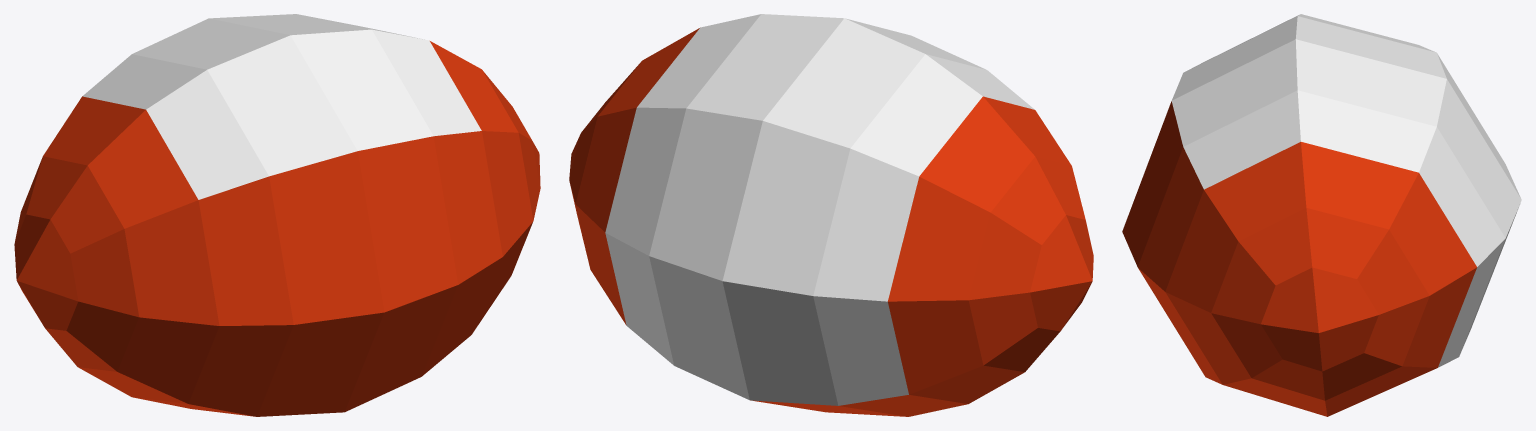
File: ball.fbx
3 views of the same model, side by side, from view 1: azimuth 30°, elevation 25°; view 2: azimuth 150°, elevation 25°; view 3: azimuth 270°, elevation 25° (orthographic). The views are drawn at different scales.
Visible parts, largest first — view 1: Box070; view 2: Box070; view 3: Box070.
Boxes of the visible parts, bbox=[...] form: Box070: bbox=[14, 14, 540, 416]; Box070: bbox=[569, 14, 1093, 416]; Box070: bbox=[1122, 14, 1521, 416].
Bounding box in the file's own units: 321 × 224 × 230.
